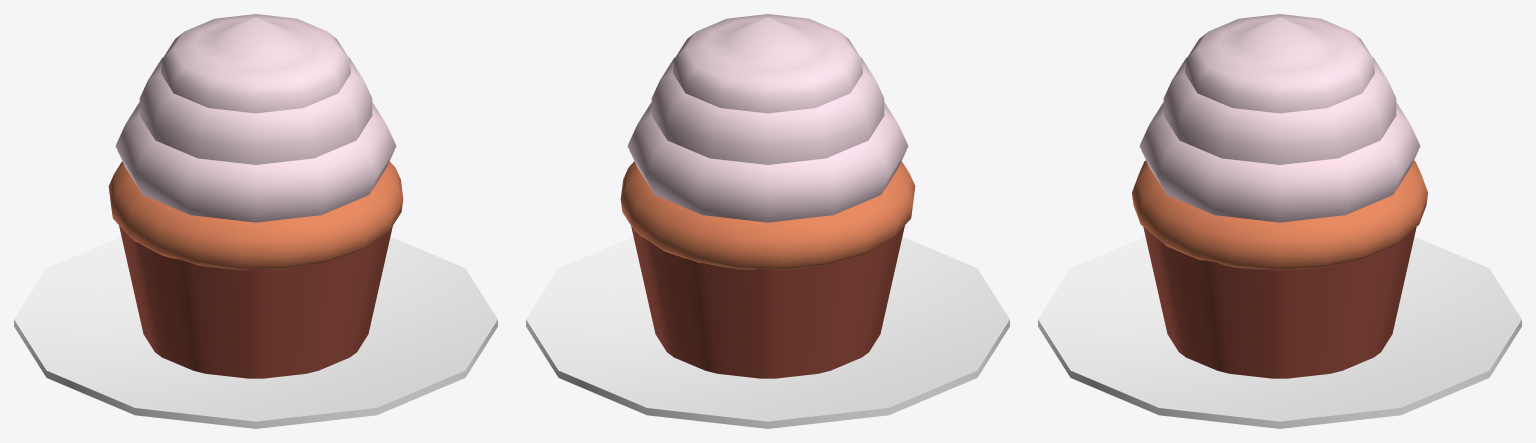
The model's file is CupcakeIceCream.fbx.
3 views of the same model, side by side, from view 1: azimuth 30°, elevation 25°; view 2: azimuth 150°, elevation 25°; view 3: azimuth 270°, elevation 25° (orthographic).
Visible parts, largest first — view 1: Cupcake_lv2; view 2: Cupcake_lv2; view 3: Cupcake_lv2.
Boxes of the visible parts, bbox=[...] form: Cupcake_lv2: bbox=[14, 14, 497, 428]; Cupcake_lv2: bbox=[526, 14, 1009, 428]; Cupcake_lv2: bbox=[1038, 14, 1521, 428].
Bounding box in the file's own units: 151 × 118 × 151.
